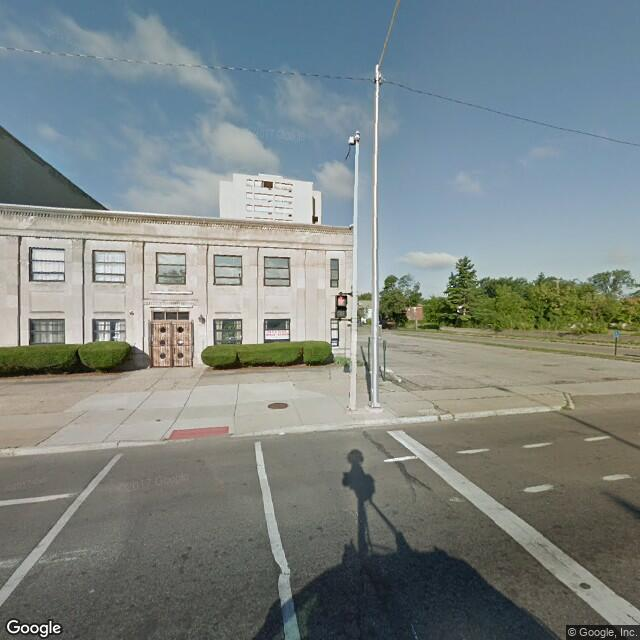litter: (278, 431, 285, 435)
